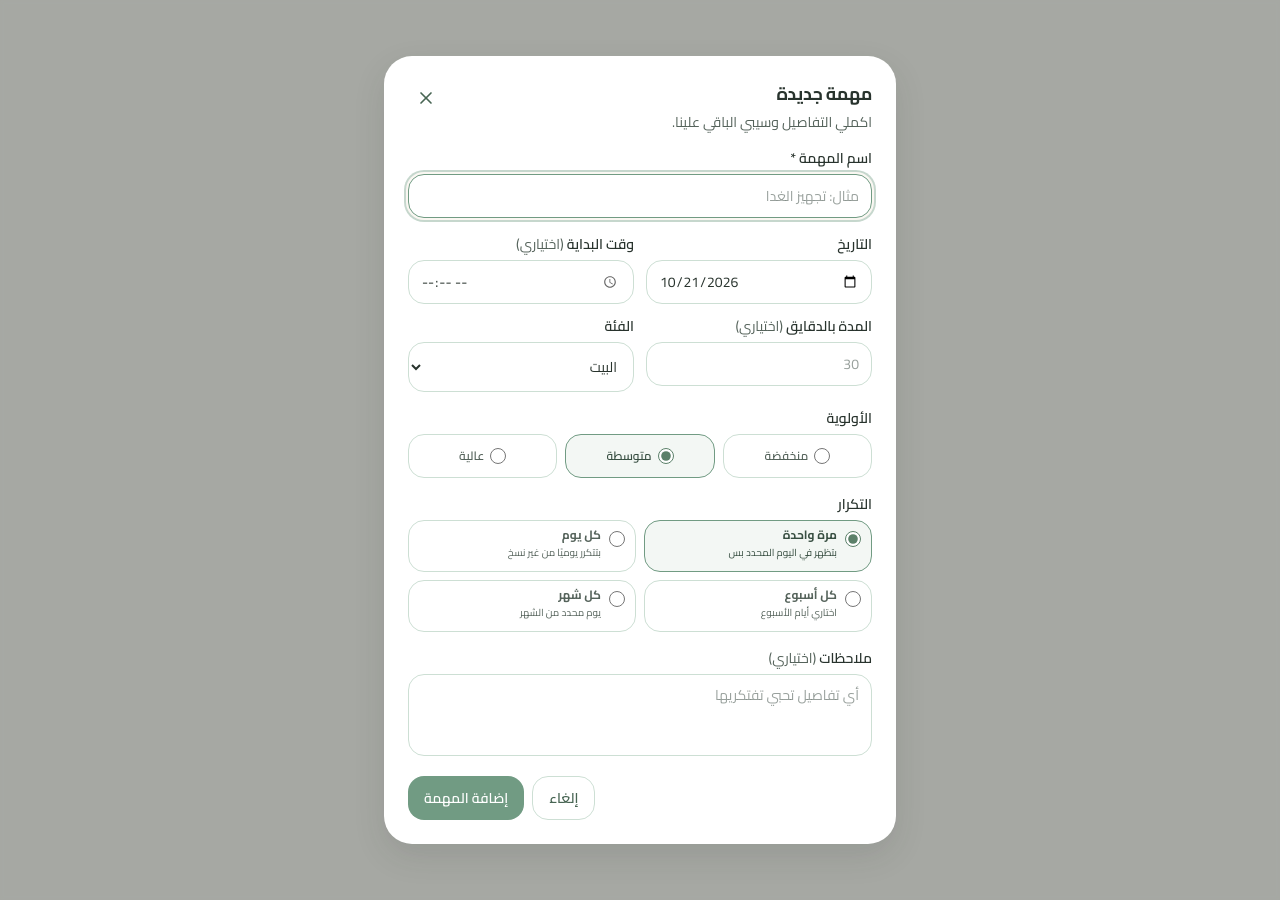
Test: نموذج المهمة › يتحقق من يوم الشهر في التكرار الشهري
Type "تنظيف الشبابيك" into the field labelled "اسم المهمة *".
click(640, 196); type("تنظيف الشبابيك")  # box [408, 174, 872, 218]
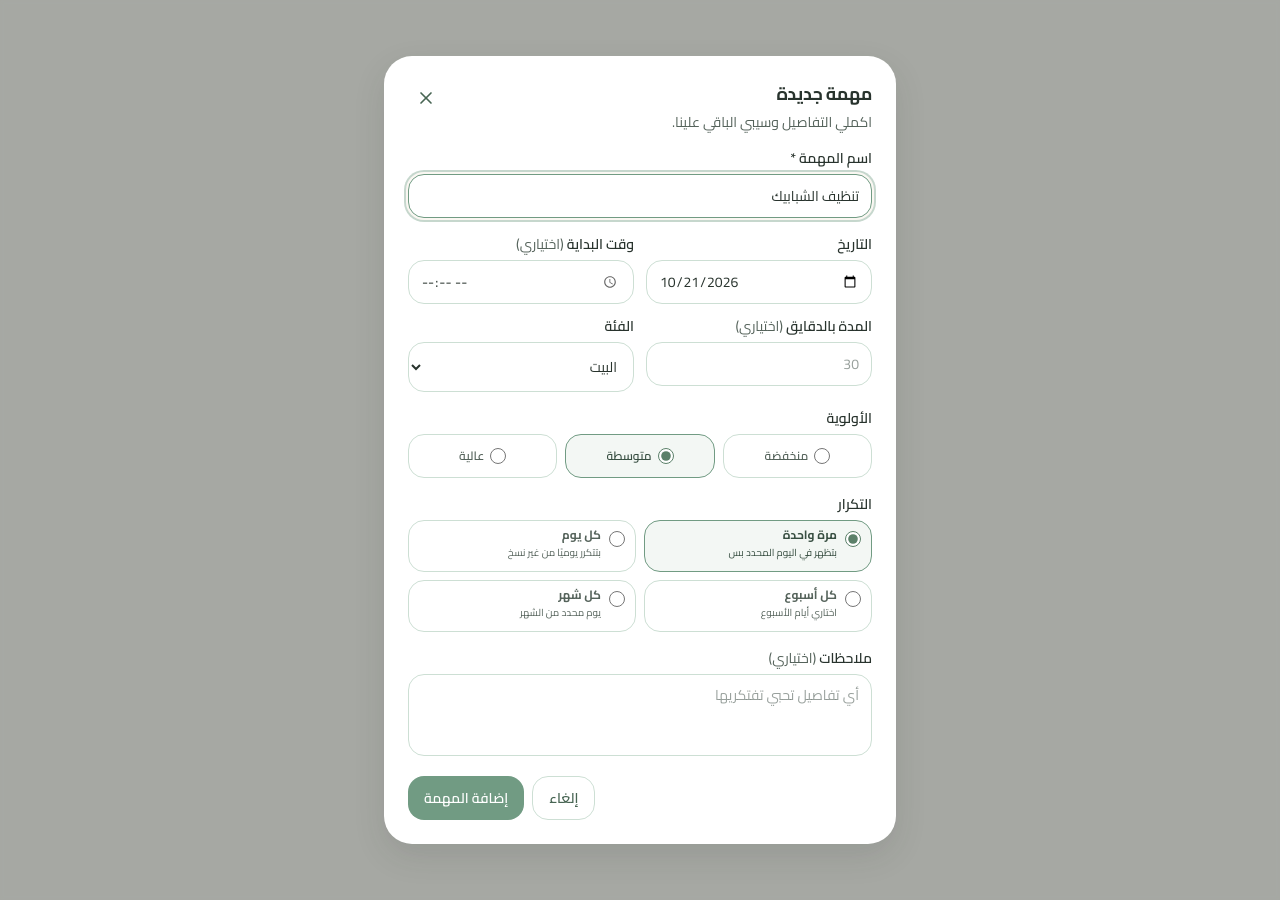
Click the radio button labelled "كل شهر يوم محدد من الشهر".
click(617, 599)  # box [609, 591, 625, 607]
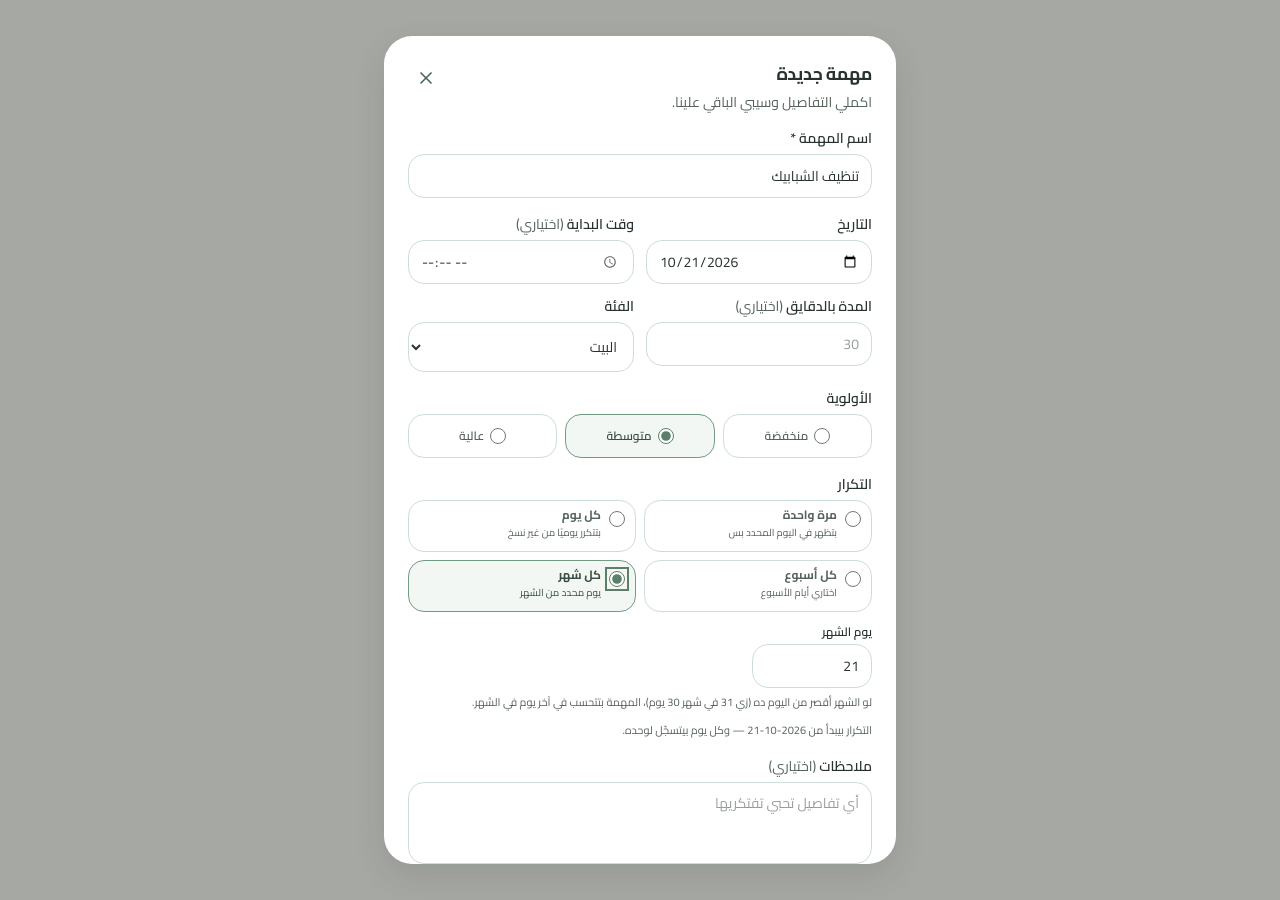
Clear the number field labelled "يوم الشهر" at (812, 666), box [752, 644, 872, 688]
(page scrolled)
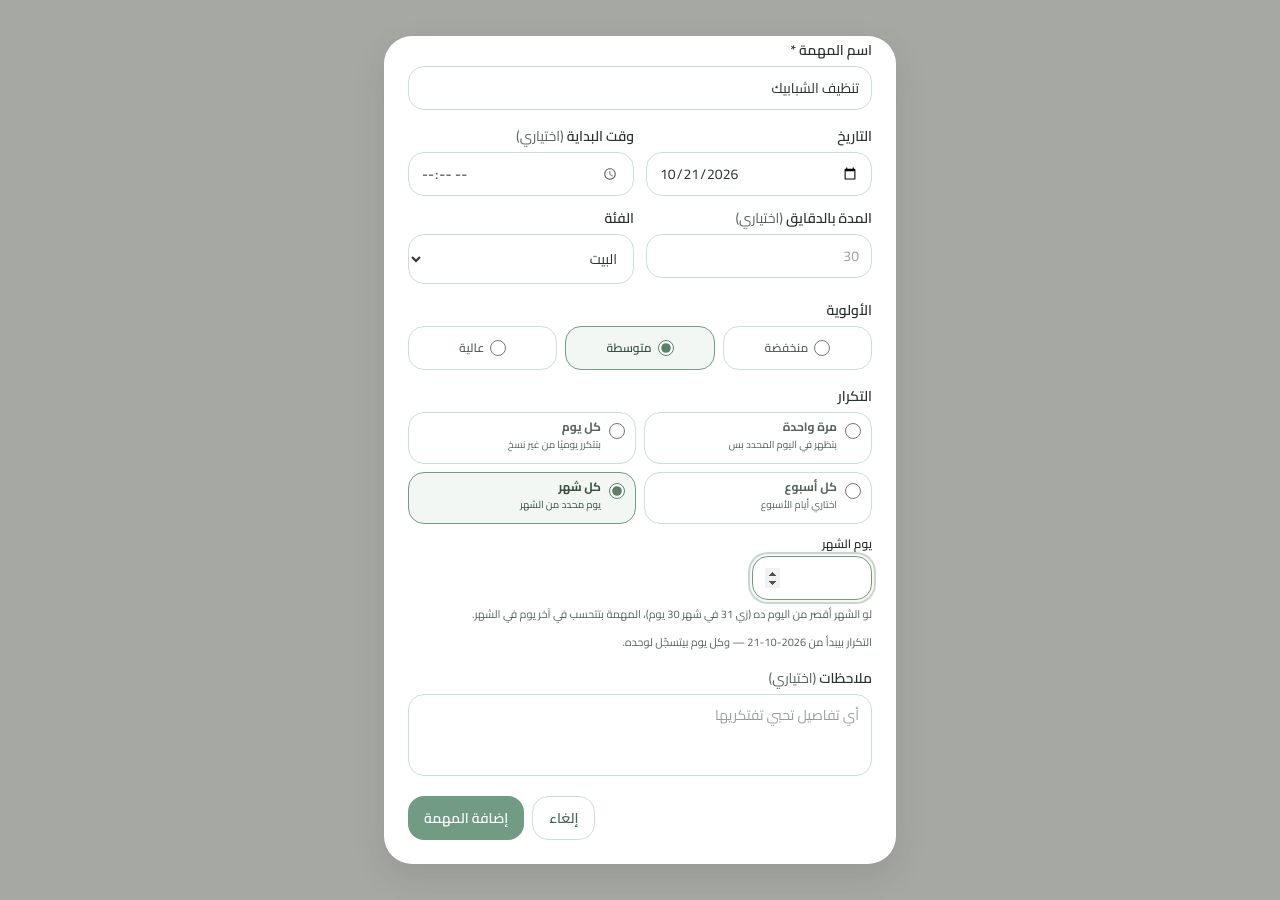
Click the button "إضافة المهمة".
click(466, 818)  # box [408, 796, 524, 840]
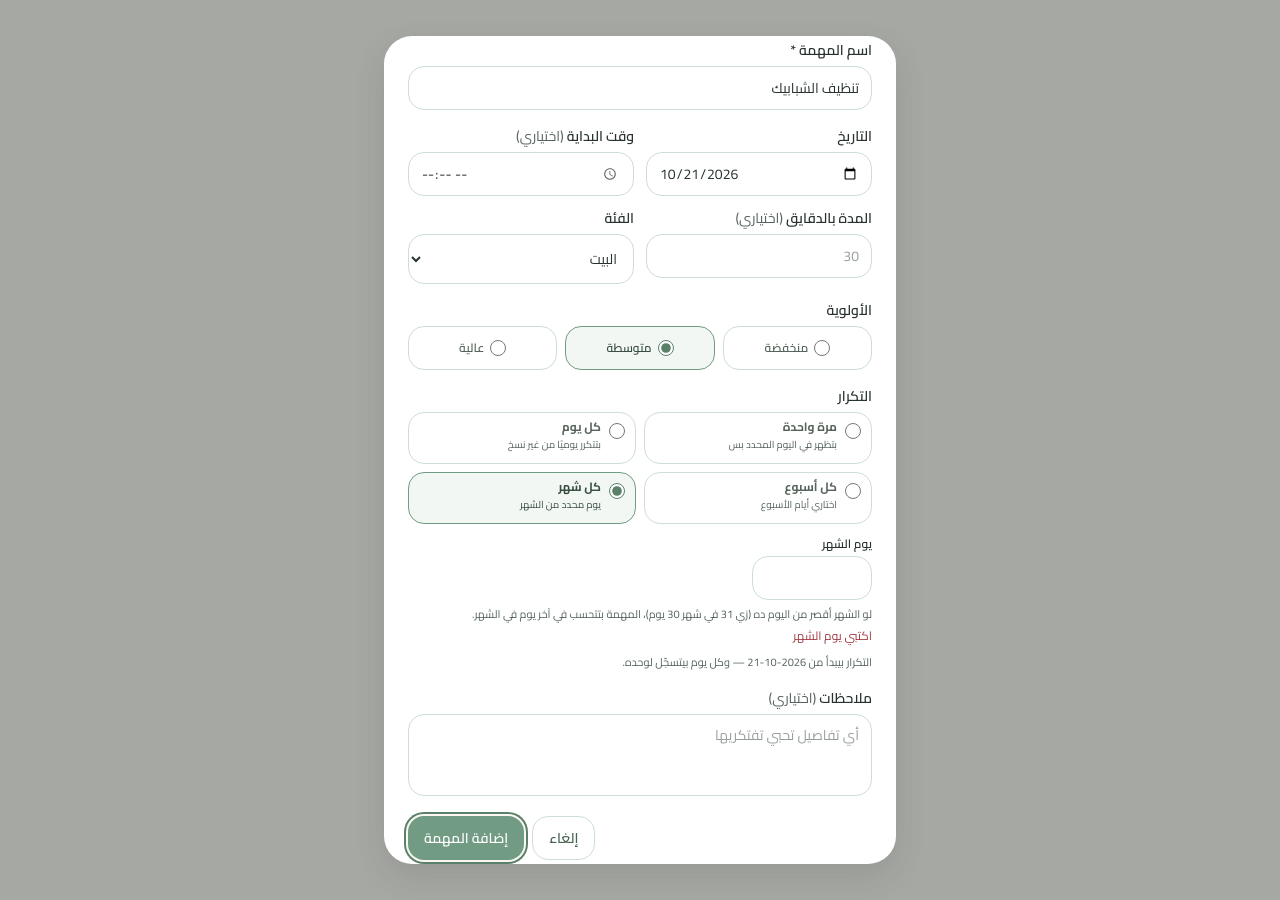
Result: the text "اكتبي يوم الشهر" is shown at [793, 624, 872, 647]
